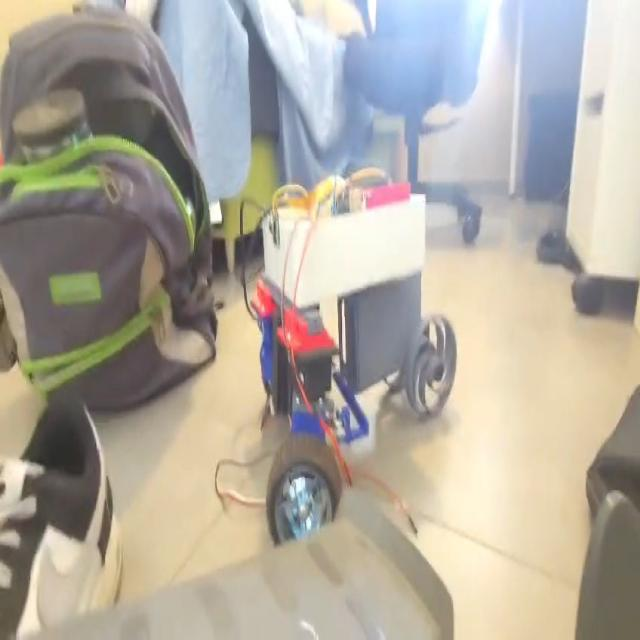Robot: (250, 178, 458, 547)
